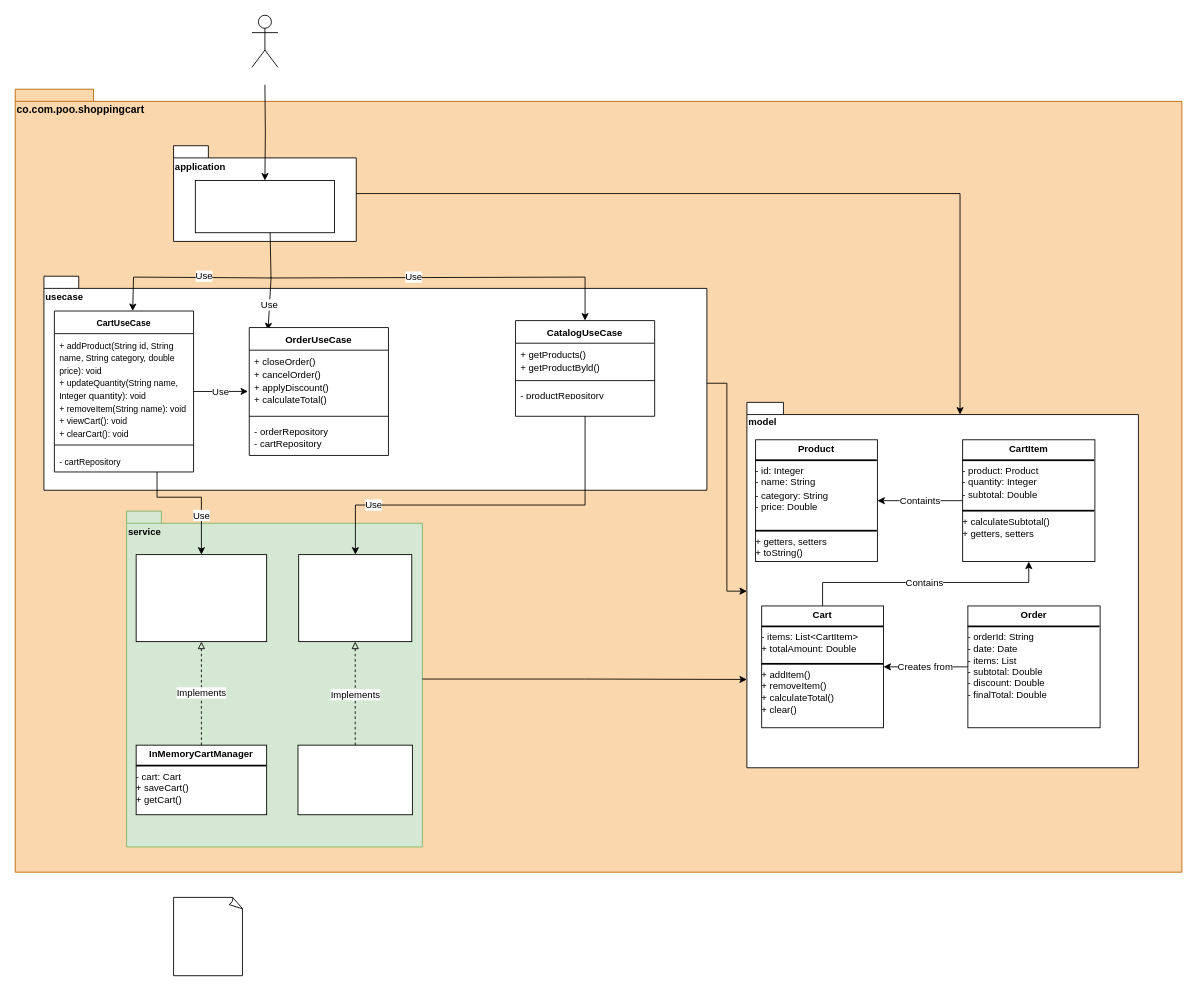
Some shapes in this 1197 by 991 pixel diagram are drawn without their labels. Here are the shapes that lost their labels. From the top down, the centre of each, then its label:
At point 264,40: "User".
At point 264,206: "ShoppingCartApp + main(args:String[]): void".
At point 201,598: "<<Interface>> CartRepository + saveCart() + getCart()".
At point 355,598: "<<Interface>> ProductRepository + loadProducts() + getProductByld()".
At point 354,779: "FileProductManager - products: list + loadFromFile() + loadProducts".
At point 208,936: "products.txt".
